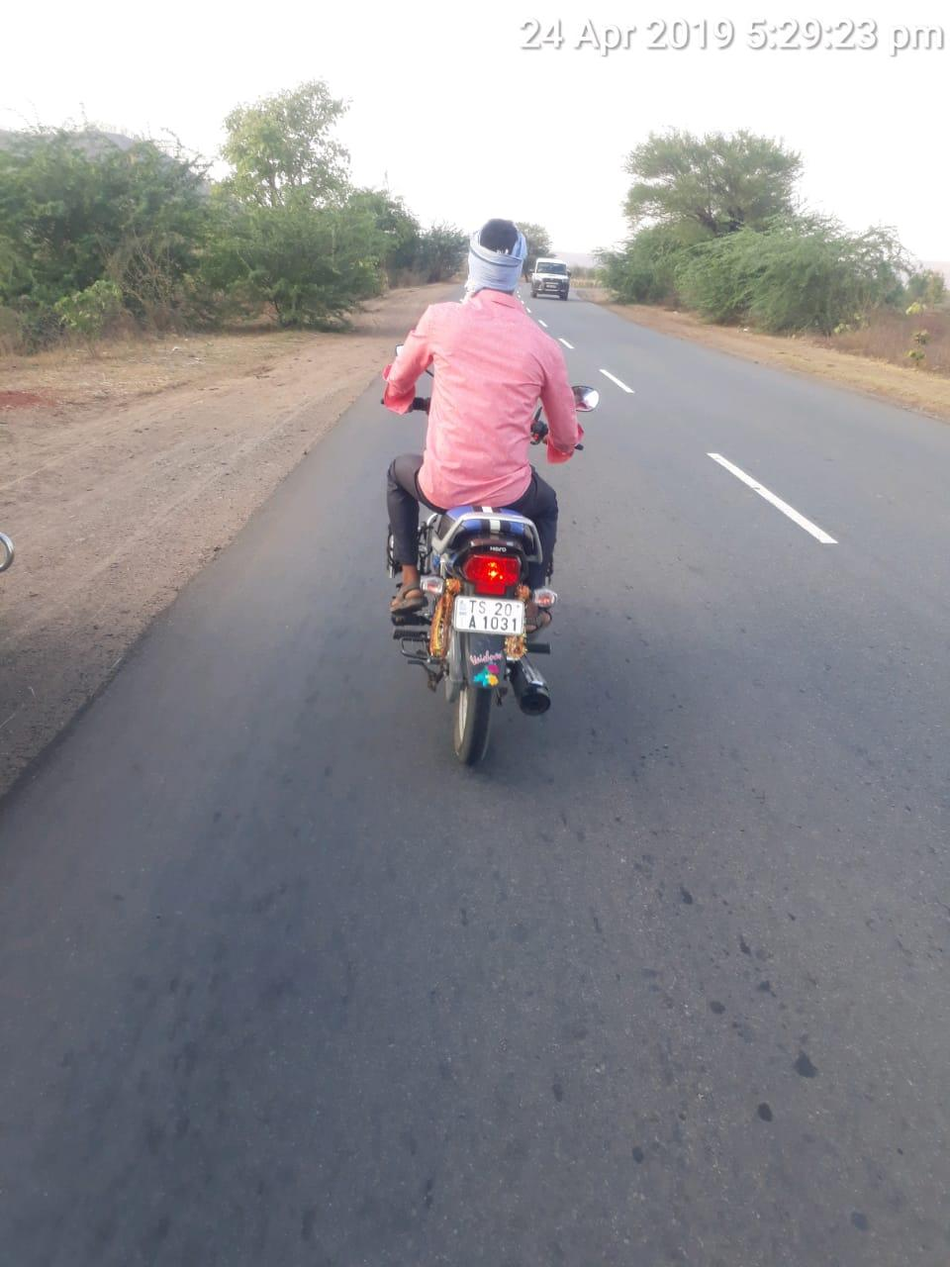plate: (440, 577, 540, 660)
